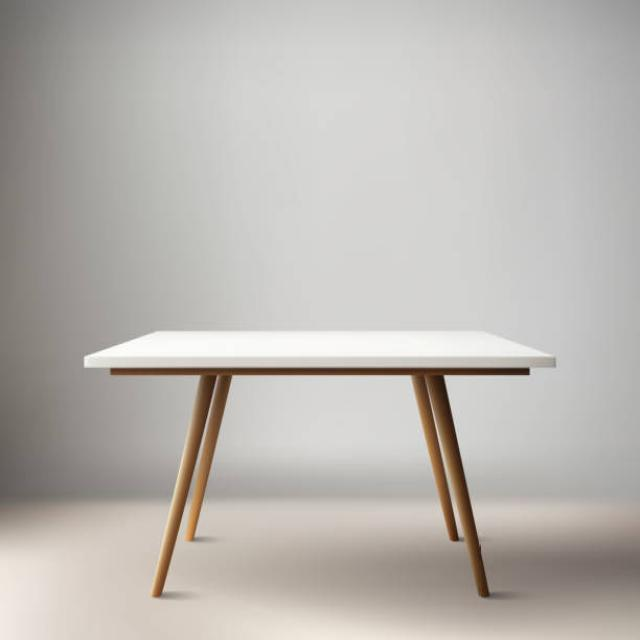table: (82, 327, 556, 600)
